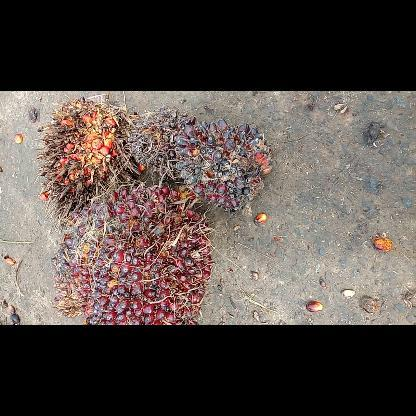TBS abnormal: (172, 119, 276, 216), (129, 108, 193, 180)
TBS masak: (51, 180, 215, 324)
Terlalu masak: (33, 92, 131, 230)
